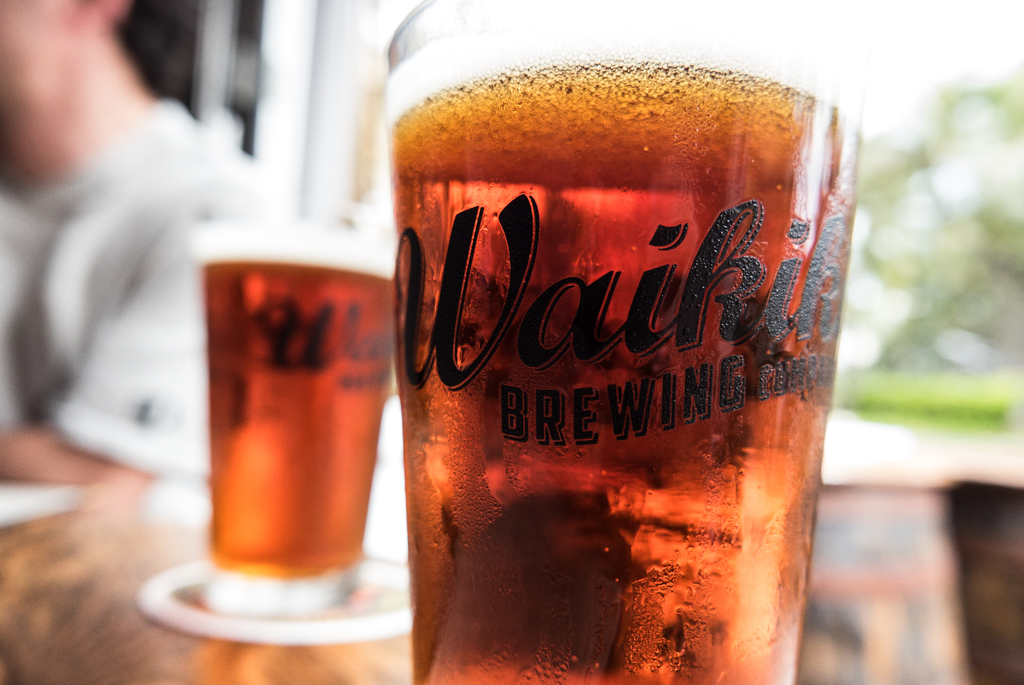Beer: (386, 28, 861, 684), (202, 220, 392, 577)
